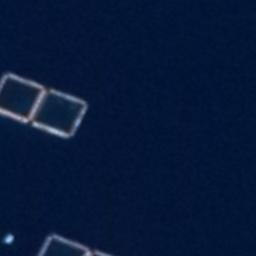square_solid: (25, 85, 92, 148), (1, 67, 47, 129)
